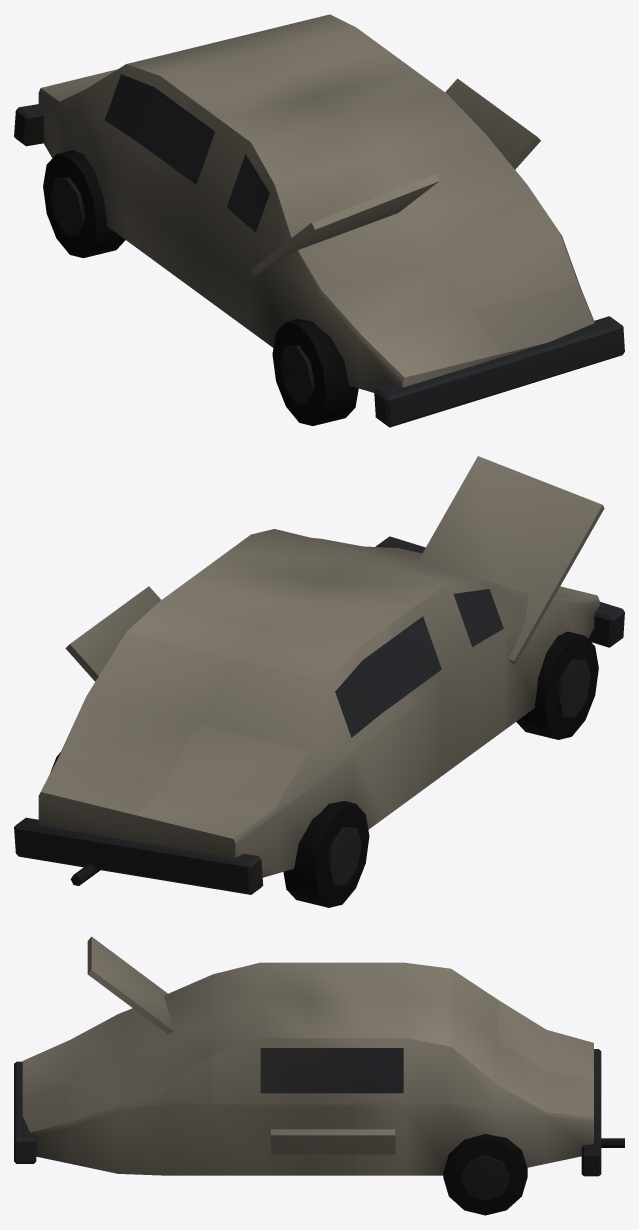
The model's file is wreck_sedan_b.glb.
3 renders of one model, top to bottom at view 1: azimuth 30°, elevation 25°; view 2: azimuth 150°, elevation 25°; view 3: azimuth 270°, elevation 25°, orthographic. The views are drawn at different scales.
Visible parts, largest first — view 1: paint, metal_dark, rubber; view 2: paint, metal_dark, rubber; view 3: paint, metal_dark, rubber.
Boxes of the visible parts, x1,y1,x2,y2 form: paint: [38, 14, 594, 392]; metal_dark: [14, 74, 624, 427]; rubber: [43, 150, 358, 425]; paint: [38, 456, 604, 877]; metal_dark: [14, 536, 624, 894]; rubber: [50, 631, 598, 907]; paint: [22, 936, 593, 1175]; metal_dark: [14, 1048, 624, 1200]; rubber: [443, 1134, 527, 1215].
Size of what is drawn, in the model's own units: 2.51 by 1.65 by 4.92.
